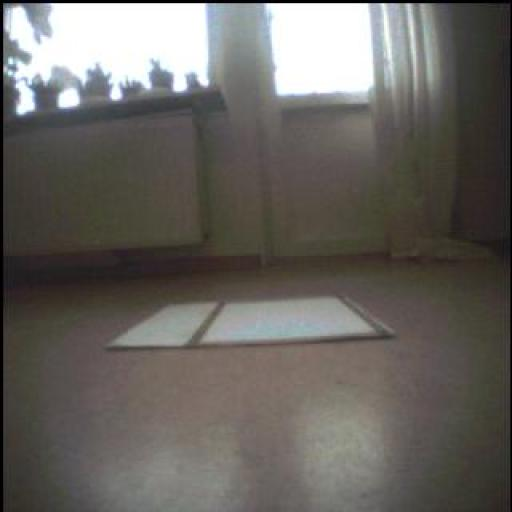Pad: (97, 296, 424, 347)
